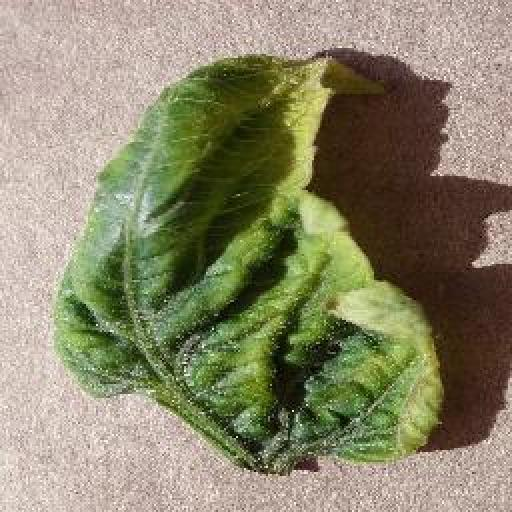Yellow Leaf Curl Virus: (46, 49, 441, 480)
